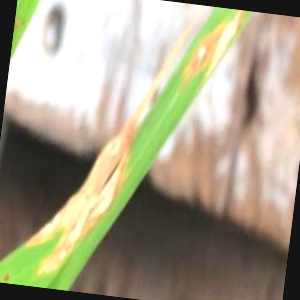Brown_Spot: (204, 11, 256, 63), (191, 40, 215, 71)
